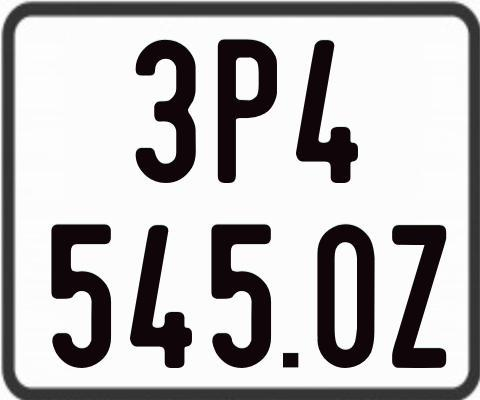0: (314, 223, 376, 372)
3: (136, 37, 200, 184)
4: (128, 225, 195, 369), (293, 39, 357, 183)
5: (48, 223, 110, 370), (210, 223, 271, 369)
P: (215, 37, 278, 181)
Z: (389, 224, 449, 368)
